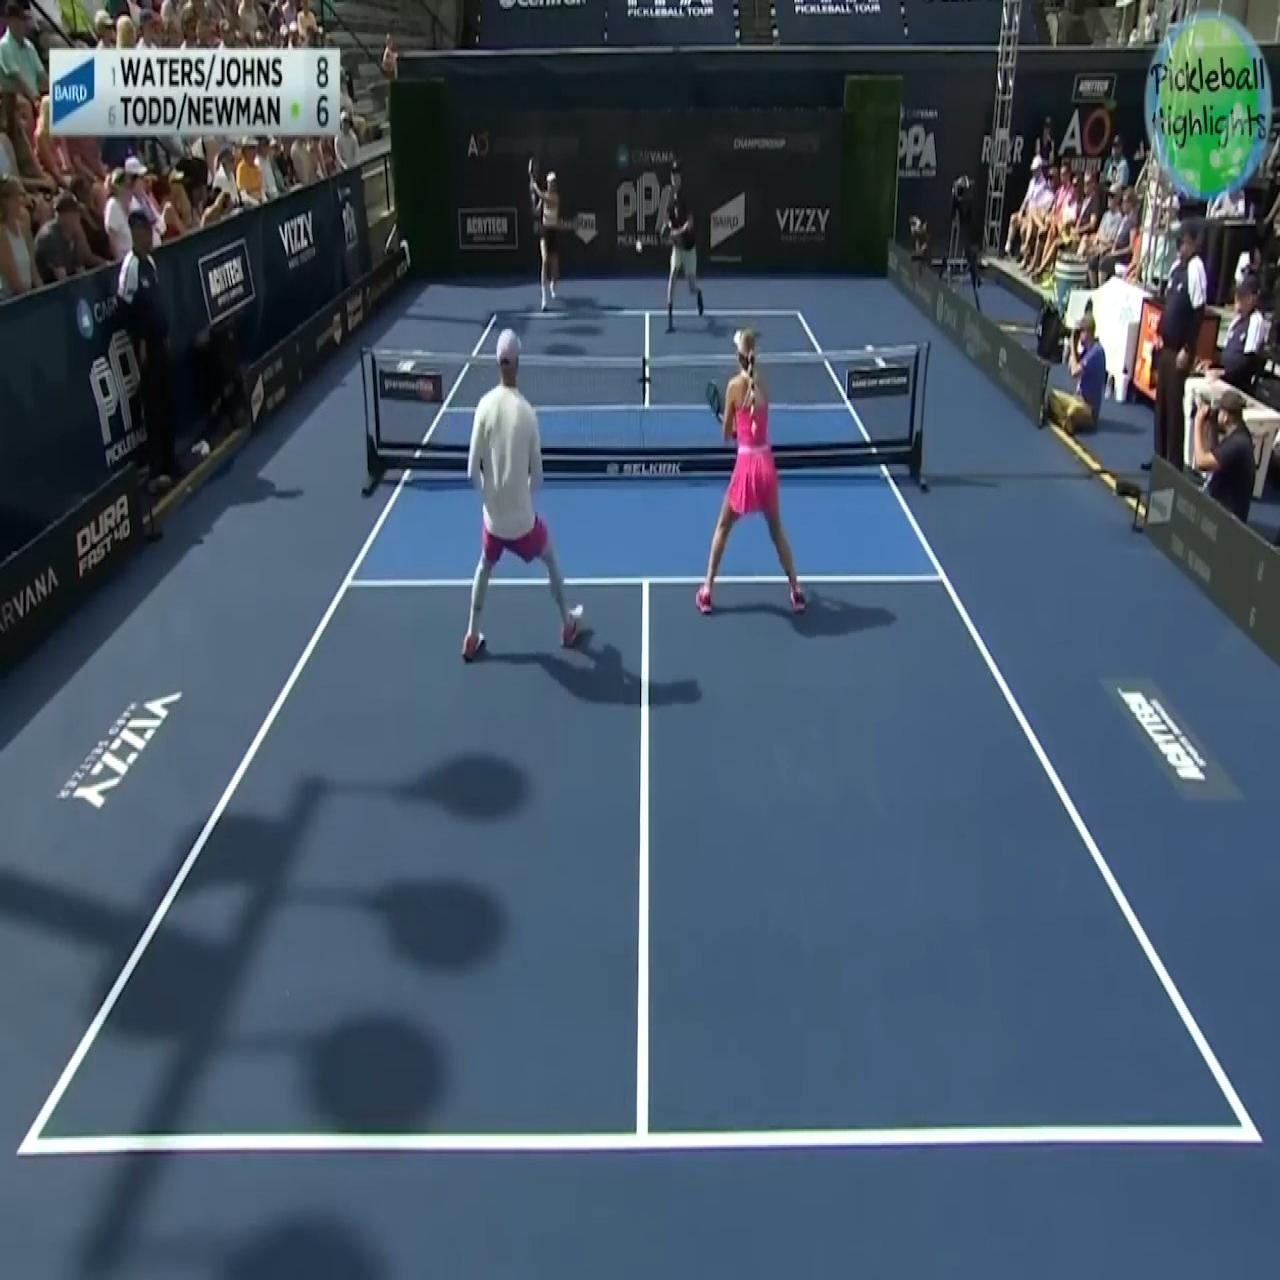Pickleball: (633, 236, 645, 257)
